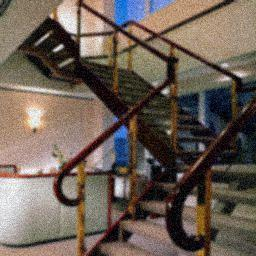Escaleras: (75, 61, 240, 163), (79, 163, 252, 254)
